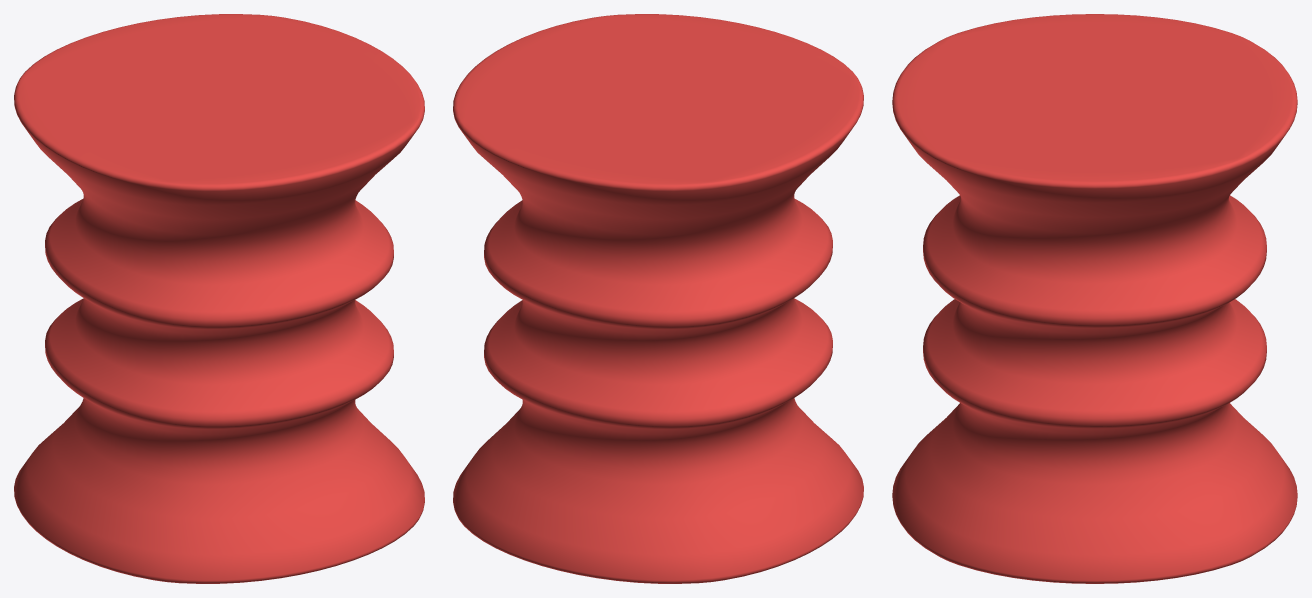
Rendered from Red Stand.glb.
The picture shows the model from 3 angles, left to right: view 1: azimuth 30°, elevation 25°; view 2: azimuth 150°, elevation 25°; view 3: azimuth 270°, elevation 25°; orthographic projection.
Visible parts, largest first — view 1: Red Stand; view 2: Red Stand; view 3: Red Stand.
Boxes of the visible parts, x1,y1,x2,y2 form: Red Stand: (14, 14, 424, 583); Red Stand: (453, 14, 863, 583); Red Stand: (892, 14, 1297, 583).
Bounding box in the file's own units: 0.1755 × 0.1922 × 0.1755.
